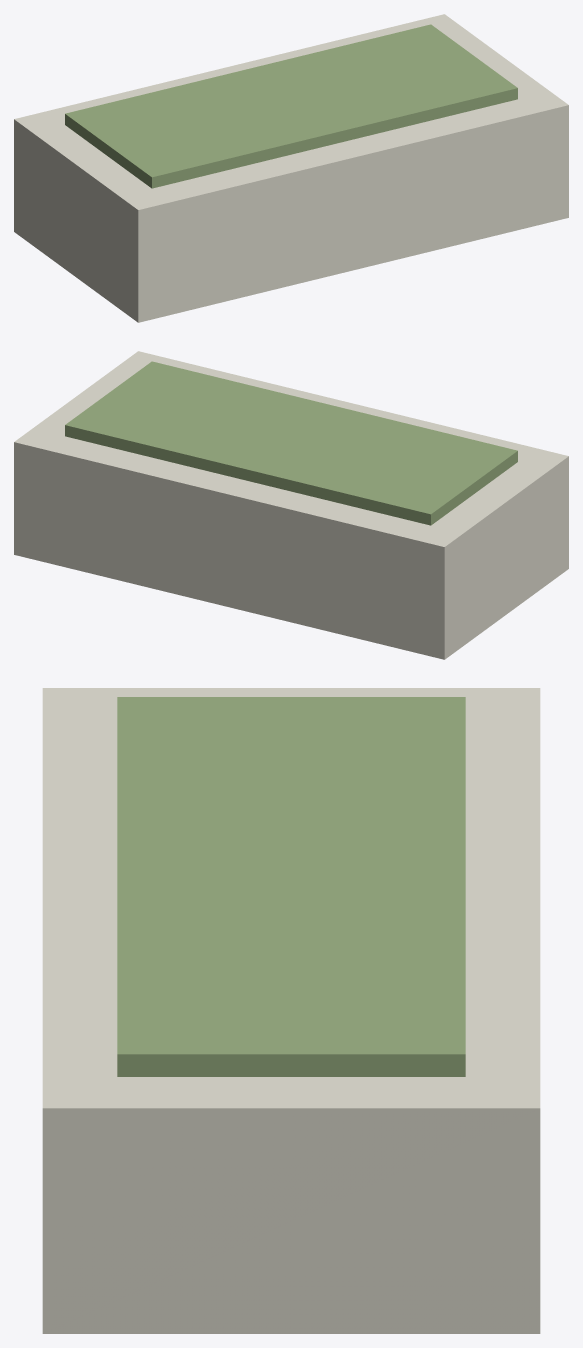
The model's file is voxel-city-districts-planter-box-f55739ed__24863.glb.
3 renders of one model, top to bottom at view 1: azimuth 30°, elevation 25°; view 2: azimuth 150°, elevation 25°; view 3: azimuth 270°, elevation 25°, orthographic. The views are drawn at different scales.
Visible parts, largest first — view 1: planter-box-concrete, planter-box-green; view 2: planter-box-concrete, planter-box-green; view 3: planter-box-concrete, planter-box-green.
Boxes of the visible parts, x1,y1,x2,y2 form: planter-box-concrete: (14,14,568,322); planter-box-green: (65,24,517,188); planter-box-concrete: (14,351,568,659); planter-box-green: (65,361,517,525); planter-box-concrete: (42,688,540,1333); planter-box-green: (117,697,465,1076).
Size of the model in its own units: 2 by 0.55 by 1.
